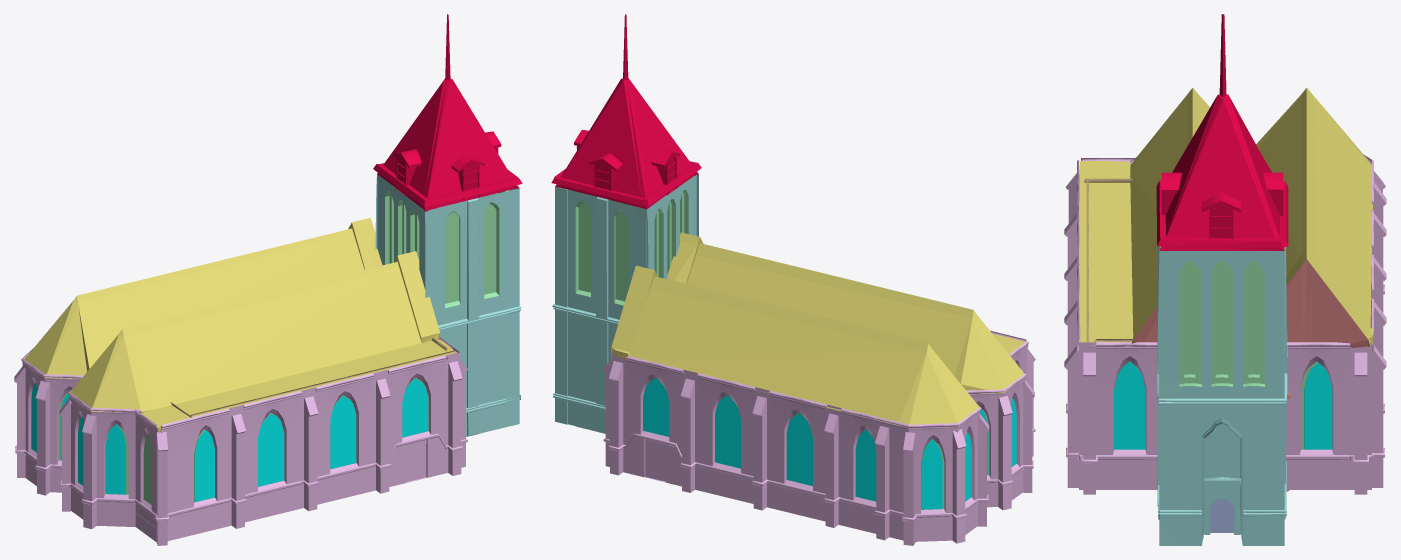
File: ChurchFinished.fbx
3 renders of one model, left to right at view 1: azimuth 30°, elevation 25°; view 2: azimuth 150°, elevation 25°; view 3: azimuth 270°, elevation 25°, orthographic. The views are drawn at different scales.
Visible parts, largest first — view 1: Roof, polySurface203, WallsInside, polySurface233, polySurface235, polySurface236, polySurface243, polySurface239, polySurface240, polySurface242, polySurface238, polySurface232 (+13 smaller); view 2: Roof, polySurface203, WallsInside, polySurface262, polySurface260, polySurface258, polySurface254, polySurface256, polySurface261, polySurface259, polySurface257, polySurface263 (+13 smaller); view 3: polySurface203, Roof, polySurface265, polySurface230, WallsInside, polySurface264, polySurface231, polySurface232, polySurface263, polySurface227, Floor, polySurface226 (+8 smaller).
Part boxes in pixels (box(x1,y1,x2,y2)): Roof: box(24, 217, 456, 431); polySurface203: box(373, 14, 522, 436); WallsInside: box(31, 338, 454, 502); polySurface233: box(388, 355, 447, 486); polySurface235: box(316, 373, 374, 504); polySurface236: box(243, 391, 301, 522); polySurface243: box(90, 407, 141, 526); polySurface239: box(192, 408, 229, 535); polySurface240: box(161, 417, 193, 540); polySurface242: box(134, 409, 156, 541); polySurface238: box(228, 405, 246, 528); polySurface232: box(445, 352, 463, 475); Roof: box(611, 232, 1028, 426); polySurface203: box(551, 14, 701, 433); WallsInside: box(625, 377, 1016, 509); polySurface262: box(625, 356, 683, 486); polySurface260: box(697, 373, 755, 503); polySurface258: box(769, 390, 827, 521); polySurface254: box(908, 423, 958, 541); polySurface256: box(841, 408, 877, 533); polySurface261: box(680, 370, 698, 492); polySurface259: box(752, 387, 769, 510); polySurface257: box(823, 405, 841, 527); polySurface263: box(608, 352, 626, 475); polySurface203: box(1156, 14, 1288, 545); Roof: box(1079, 87, 1373, 347); polySurface265: box(1286, 342, 1350, 489); polySurface230: box(1096, 342, 1157, 489); WallsInside: box(1084, 178, 1332, 449); polySurface264: box(1350, 342, 1372, 494); polySurface231: box(1078, 342, 1099, 494); polySurface232: box(1064, 344, 1078, 487); polySurface263: box(1372, 345, 1386, 487); polySurface227: box(1201, 192, 1240, 238); Floor: box(1210, 499, 1233, 532); polySurface226: box(1161, 172, 1182, 215).
Size of what is drawn, in the model's own units: 35.04 by 30.86 by 17.81.
